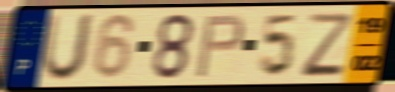5: (255, 12, 301, 79)
6: (89, 12, 140, 84)
8: (149, 12, 196, 82)
P: (193, 12, 247, 80)
U: (39, 12, 98, 85)
Z: (299, 10, 353, 79)
